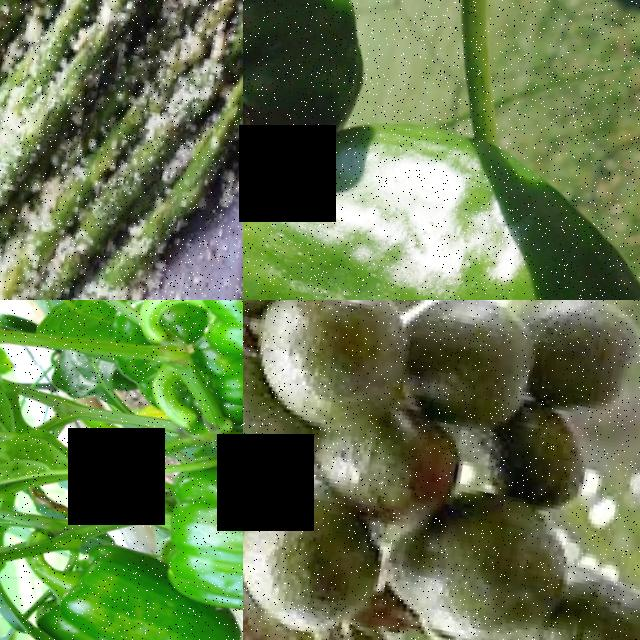avocado: (340, 465, 580, 640), (243, 300, 441, 456), (367, 300, 554, 456), (277, 390, 460, 537), (243, 477, 384, 640), (502, 300, 640, 435), (457, 396, 605, 519), (478, 551, 640, 640), (243, 311, 311, 474), (388, 625, 521, 640)
bell pepper: (243, 90, 640, 300), (139, 454, 243, 639), (38, 567, 226, 640)
